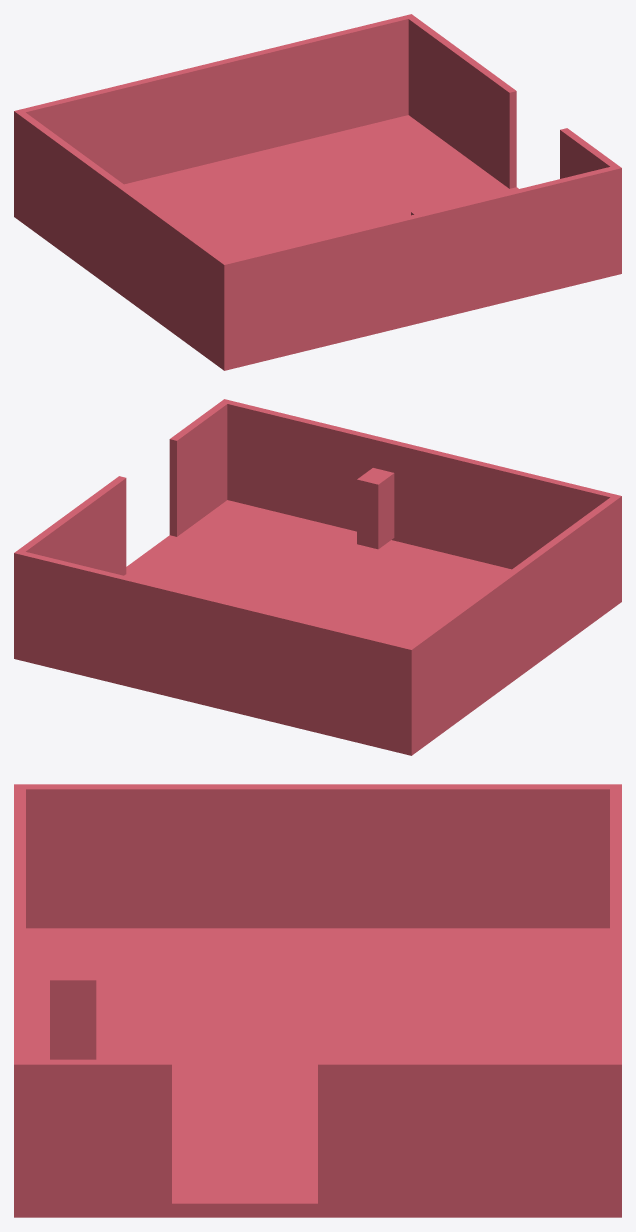
Rendered from roomtest1.glb.
The picture shows the model from 3 angles, top to bottom: view 1: azimuth 30°, elevation 25°; view 2: azimuth 150°, elevation 25°; view 3: azimuth 270°, elevation 25°; orthographic projection. The views are drawn at different scales.
Visible parts, largest first — view 1: room; view 2: room; view 3: room.
Part boxes in pixels (x1,y1,x2,y2): room: [14, 14, 621, 370]; room: [14, 399, 621, 755]; room: [14, 784, 621, 1217].
Size of the model in its own units: 7.86 by 2 by 7.21.
